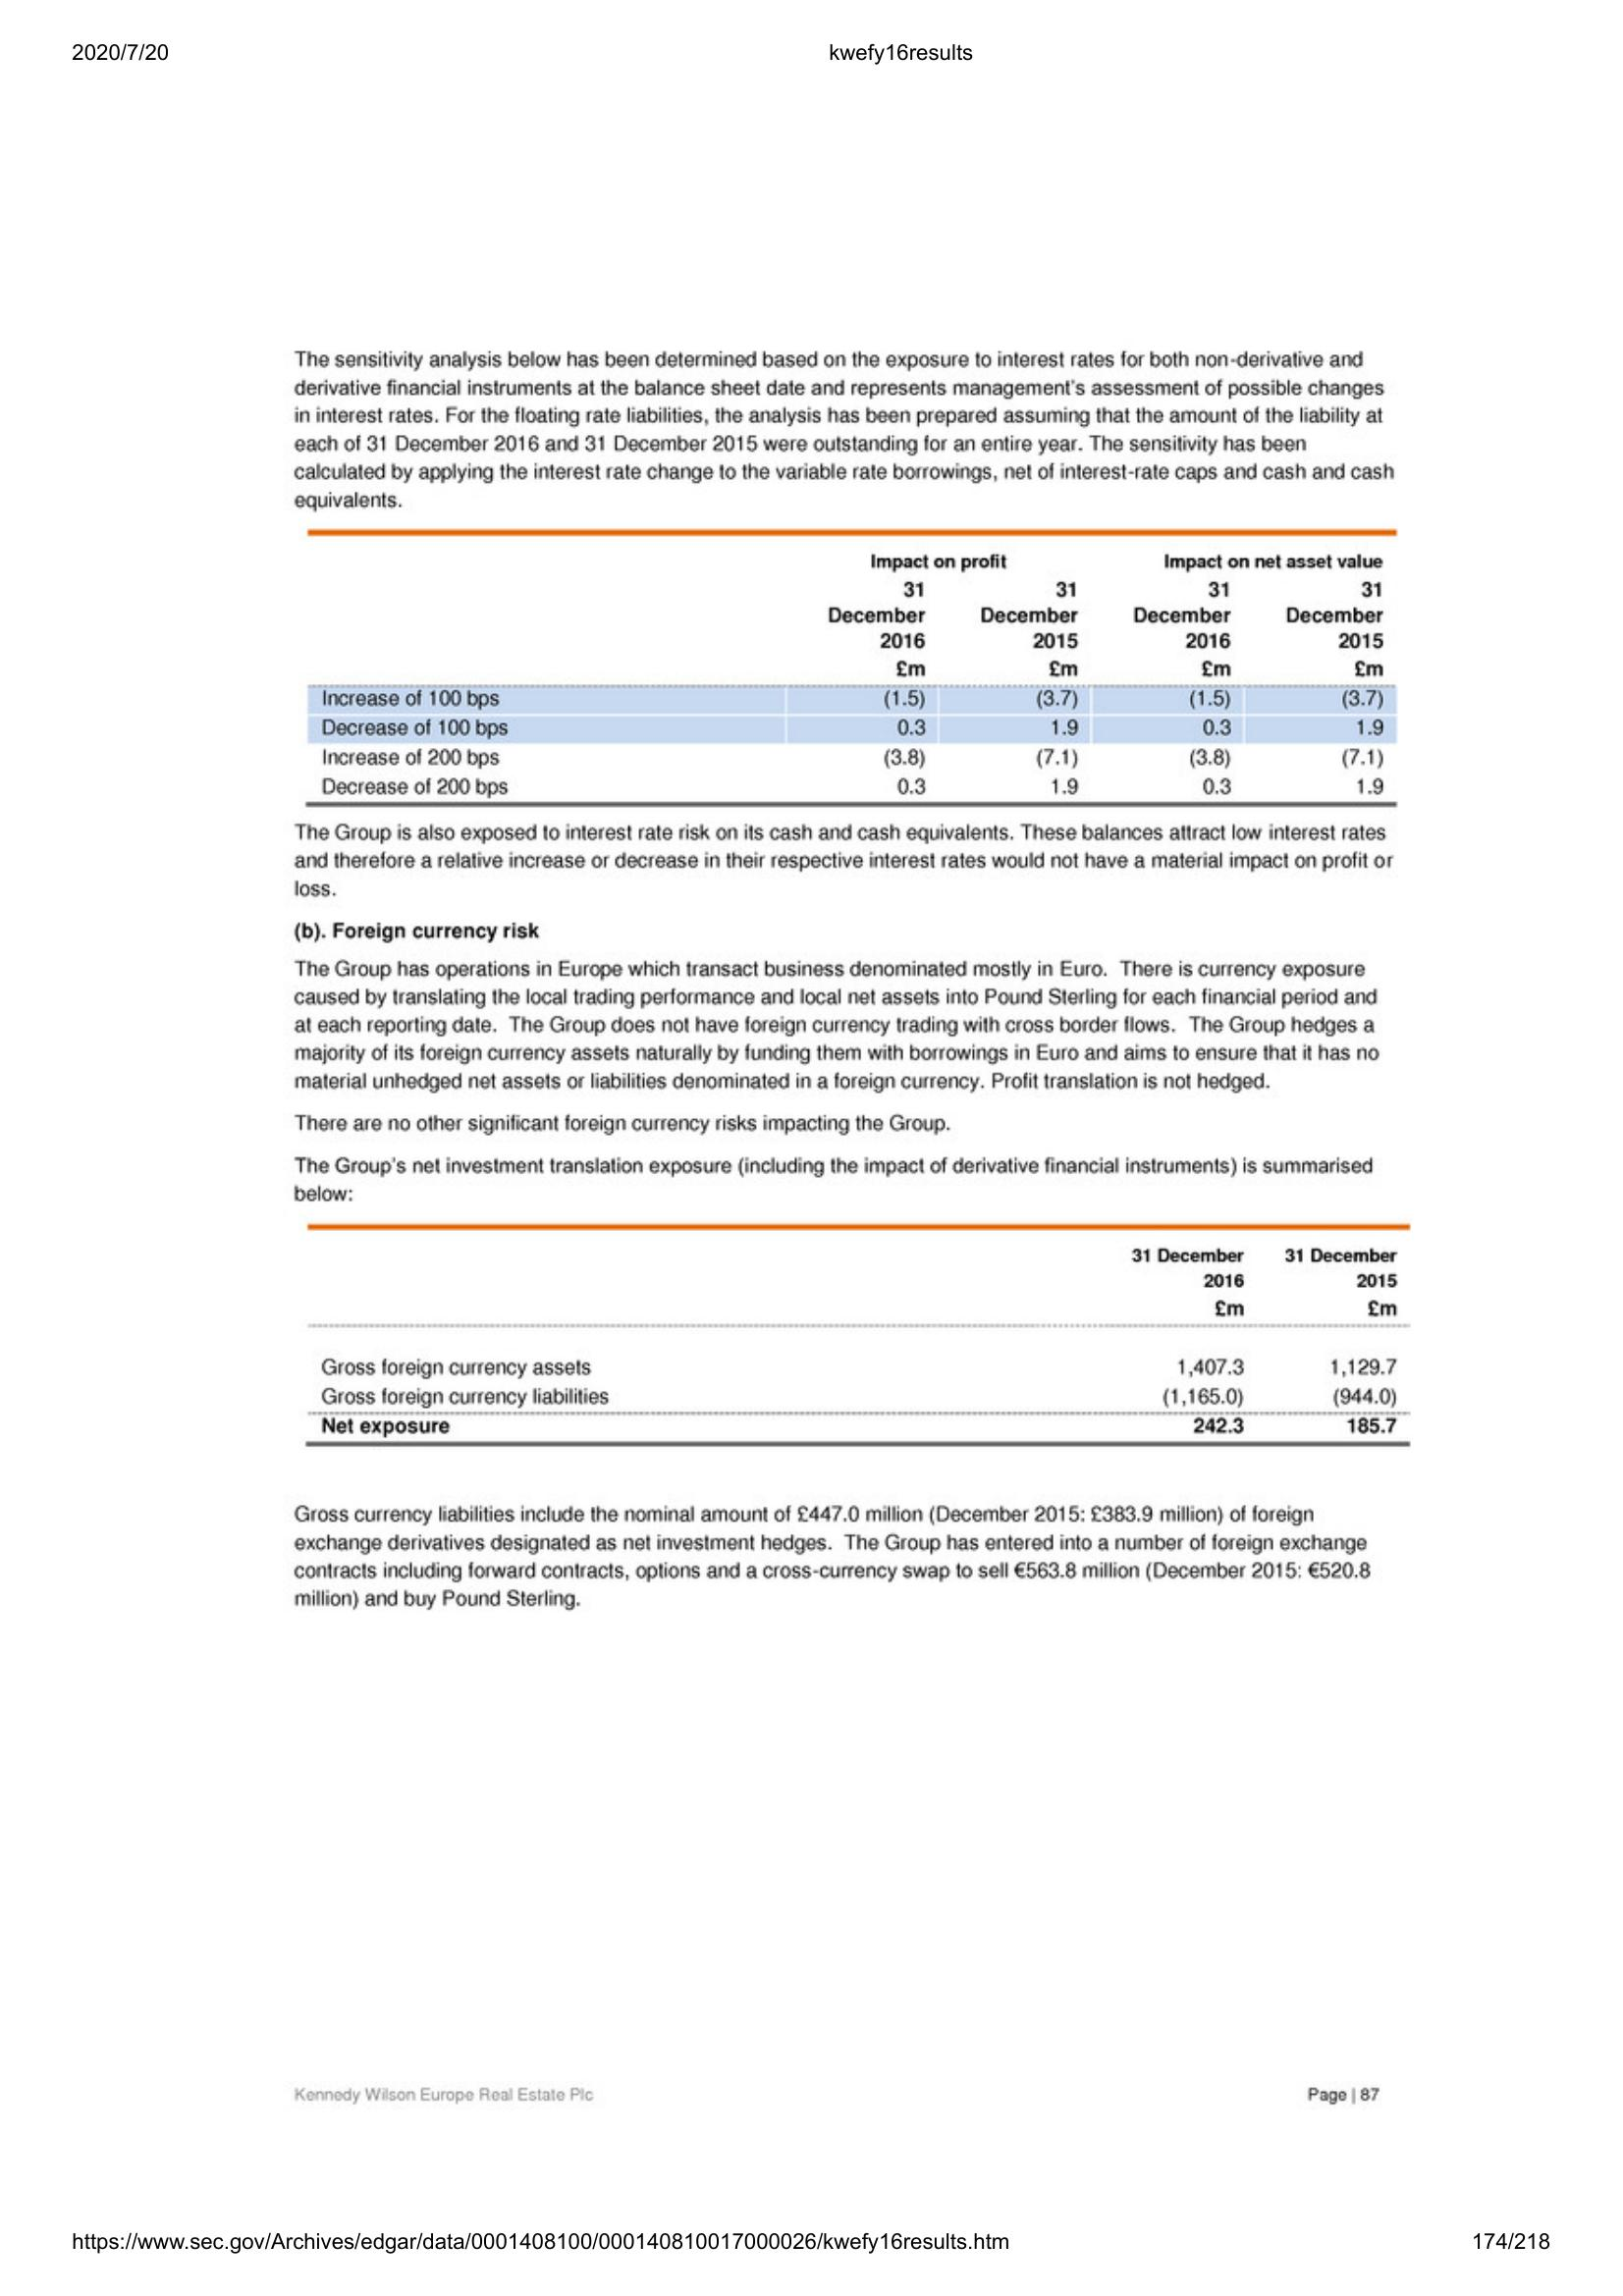table: (293, 525, 1403, 809), (304, 1216, 1421, 1453)
